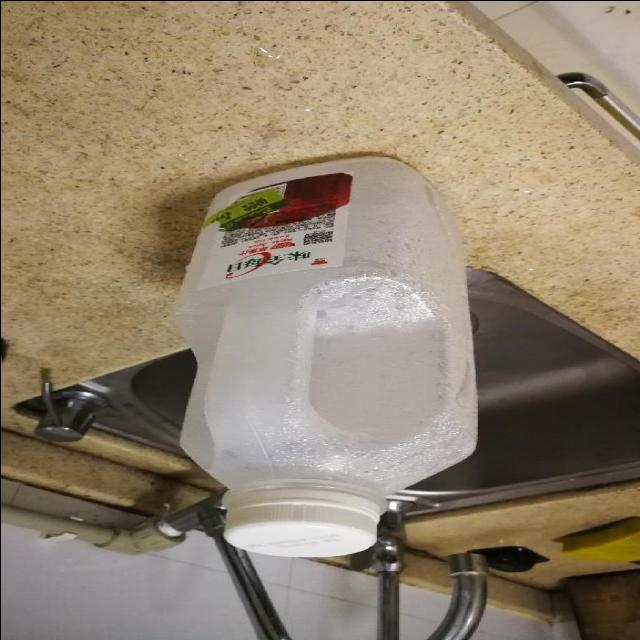-Recyclables - plastic bottle-: (173, 151, 482, 554)
